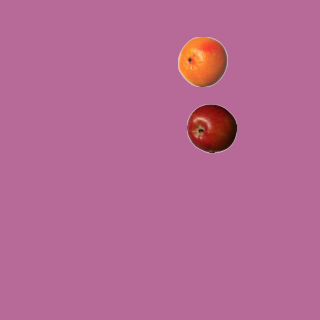Apple Braeburn: (186, 103, 236, 153)
Grapefruit Pink: (177, 36, 227, 86)
